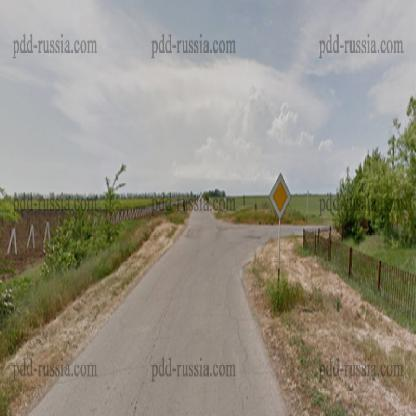road_sign: (270, 174, 291, 219)
